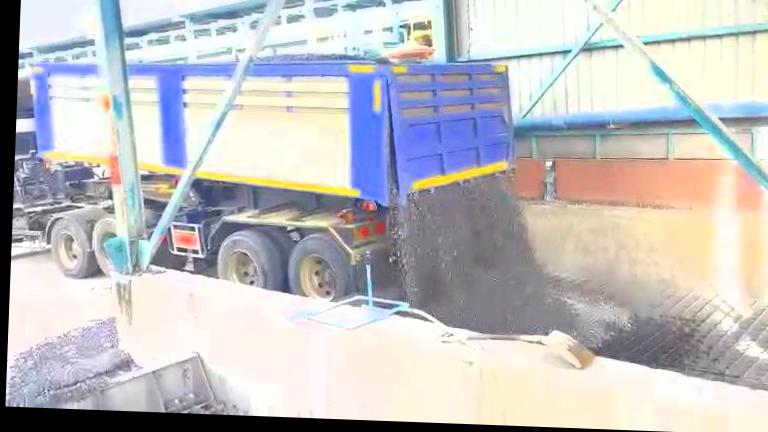gravel: (394, 176, 602, 345), (7, 318, 132, 406)
